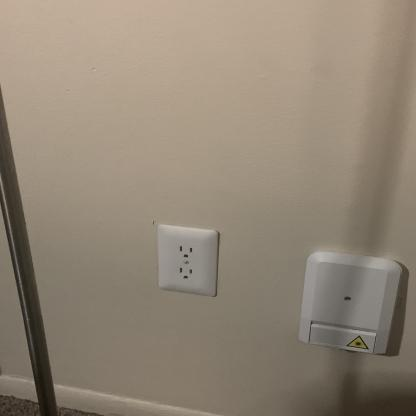OUTLET: (156, 224, 218, 297)
